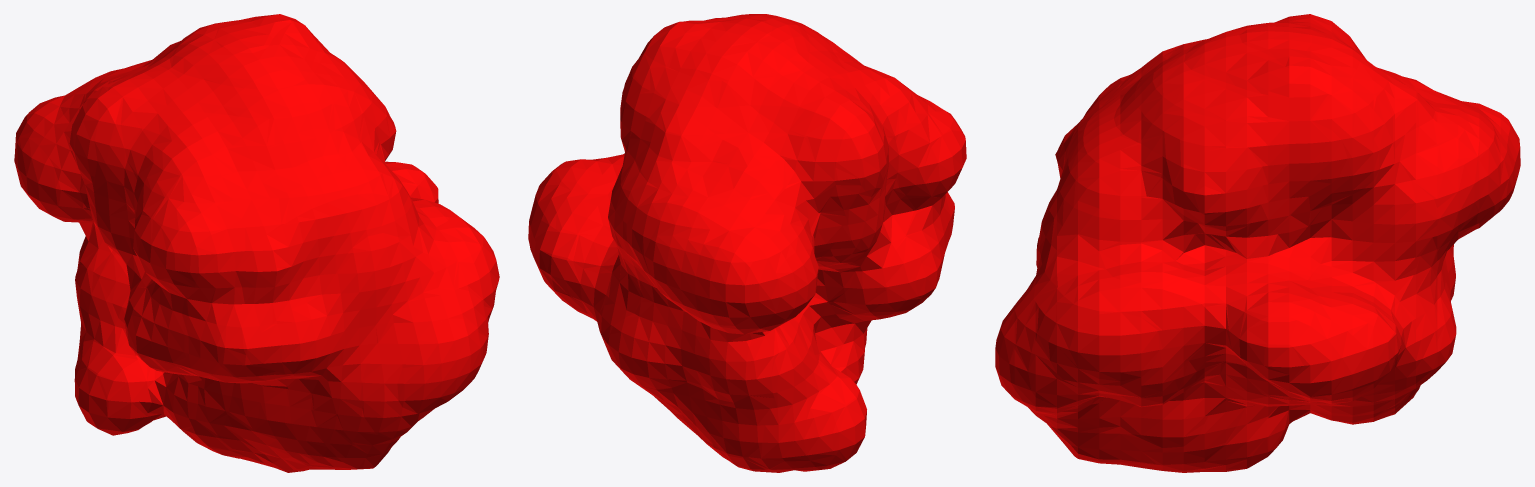
File: djlA_coarse.dae
3 views of the same model, side by side, from view 1: azimuth 30°, elevation 25°; view 2: azimuth 150°, elevation 25°; view 3: azimuth 270°, elevation 25° (orthographic). The views are drawn at different scales.
Parts seen in each view (by area): view 1: djlA; view 2: djlA; view 3: djlA.
Boxes of the visible parts, x1,y1,x2,y2 form: djlA: (14,14,499,472); djlA: (528,14,966,472); djlA: (995,14,1520,472).
Bounding box in the file's own units: 46.79 × 51.37 × 56.51.
